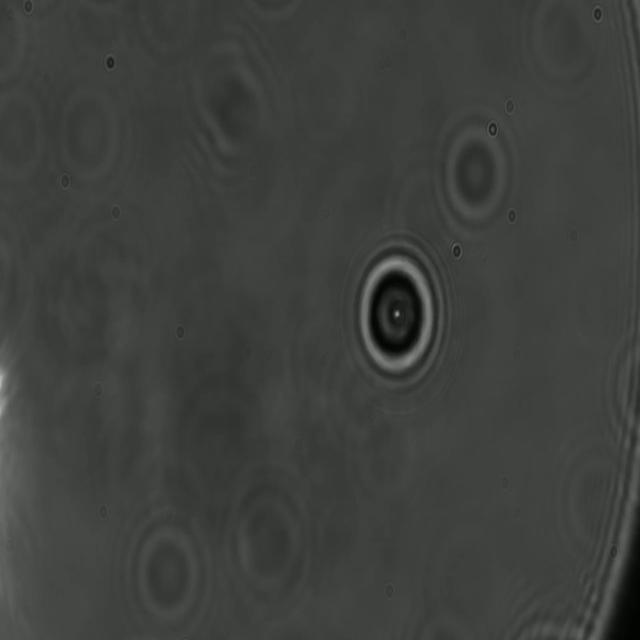LCELL: (333, 221, 462, 408)
